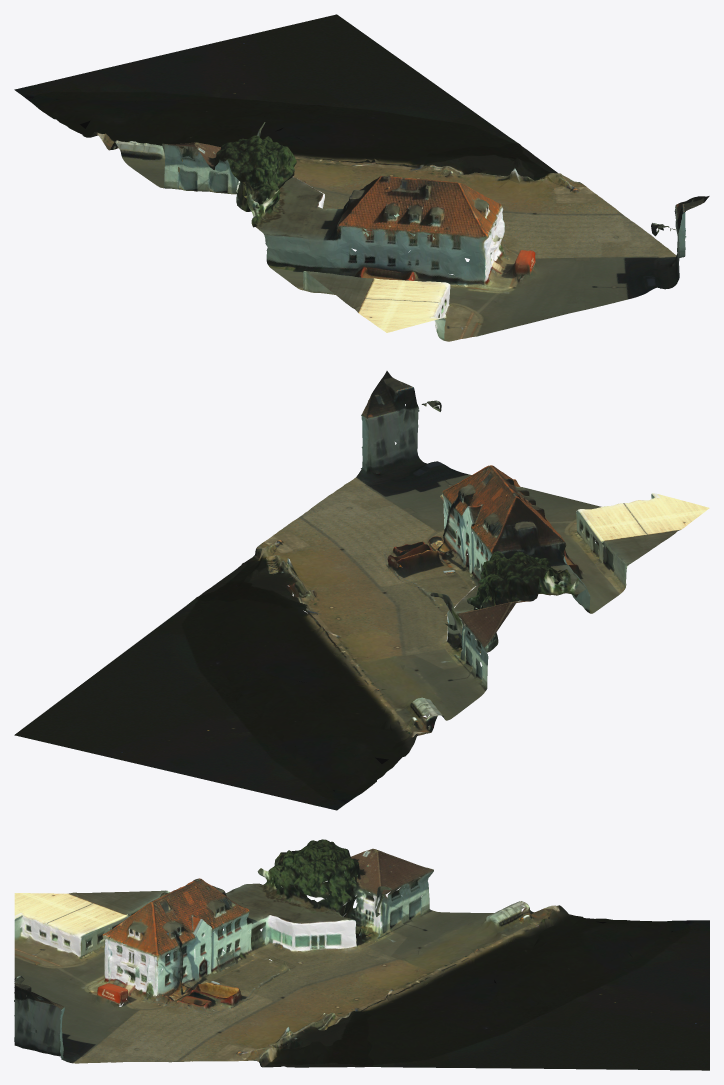
File: patch_post_comp_draco.glb
The picture shows the model from 3 angles, top to bottom: view 1: azimuth 30°, elevation 25°; view 2: azimuth 150°, elevation 25°; view 3: azimuth 270°, elevation 25°; orthographic projection. The views are drawn at different scales.
Visible parts, largest first — view 1: Test_Patch_2_Post, Test_Patch_1_Post; view 2: Test_Patch_1_Post, Test_Patch_2_Post; view 3: Test_Patch_2_Post, Test_Patch_1_Post.
Part boxes in pixels (<box>): Test_Patch_2_Post: <box>199,135,709,341</box>; Test_Patch_1_Post: <box>14,14,517,205</box>; Test_Patch_1_Post: <box>14,592,524,810</box>; Test_Patch_2_Post: <box>195,371,709,652</box>; Test_Patch_2_Post: <box>14,839,373,1067</box>; Test_Patch_1_Post: <box>354,848,709,1070</box>.
Bounding box in the file's own units: 49.25 × 14.79 × 98.1.
2 materials, 2 textured.
